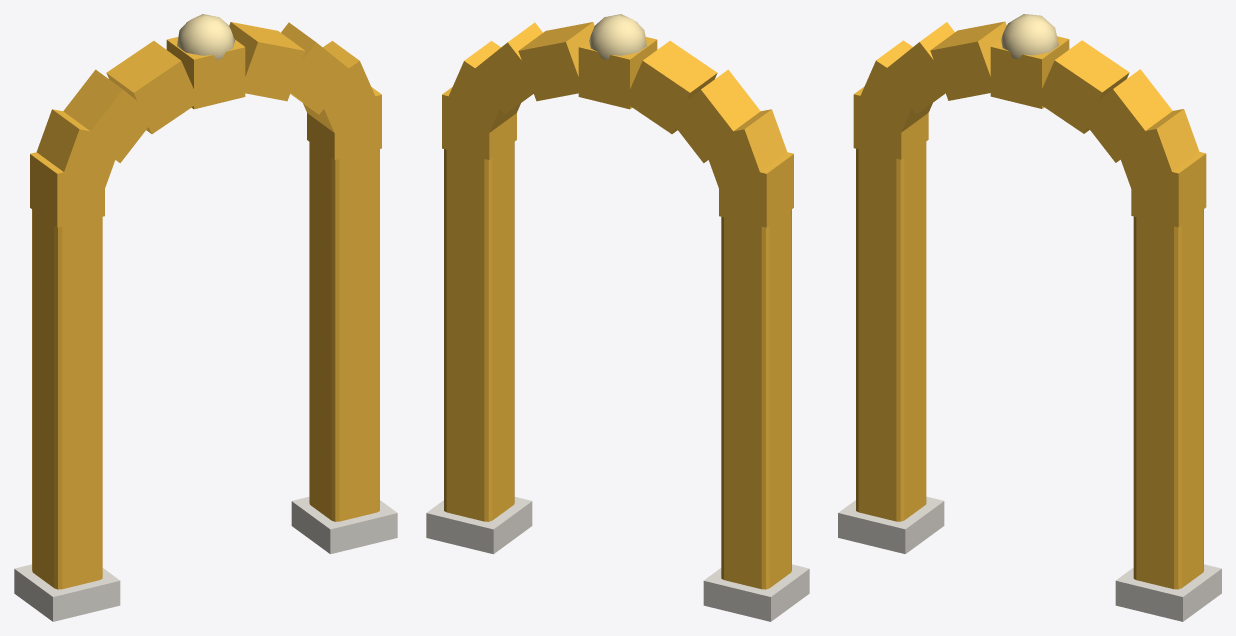
Rendered from PortalArch.fbx.
The picture shows the model from 3 angles, left to right: view 1: azimuth 30°, elevation 25°; view 2: azimuth 150°, elevation 25°; view 3: azimuth 330°, elevation 25°; orthographic projection.
Parts seen in each view (by area): view 1: Gold_PostL, Gold_PostR, Gold_Arc5, Gold_Arc6, Gold_Arc7, Gold_Arc8, Gold_Arc3, Marble_PlinthL, Marble_PlinthR, Gold_Arc4, Gold_Arc0, Gold_Arc1 (+2 smaller); view 2: Gold_PostR, Gold_PostL, Gold_Arc5, Gold_Arc6, Gold_Arc7, Gold_Arc3, Gold_Arc8, Marble_PlinthL, Marble_PlinthR, Gold_Arc4, Gold_Arc2, Gold_Arc1 (+2 smaller); view 3: Gold_PostL, Gold_PostR, Gold_Arc3, Gold_Arc0, Gold_Arc2, Gold_Arc1, Gold_Arc5, Marble_PlinthR, Marble_PlinthL, Gold_Arc4, Gold_Arc6, Gold_Arc8 (+2 smaller).
Boxes of the visible parts, left/top/right/bottom form: Gold_PostL: left=32, top=189, right=102, bottom=589; Gold_PostR: left=309, top=142, right=379, bottom=521; Gold_Arc5: left=106, top=41, right=198, bottom=133; Gold_Arc6: left=63, top=69, right=150, bottom=163; Gold_Arc7: left=36, top=109, right=122, bottom=191; Gold_Arc8: left=30, top=152, right=104, bottom=227; Gold_Arc3: left=229, top=22, right=305, bottom=101; Marble_PlinthL: left=14, top=564, right=120, bottom=621; Marble_PlinthR: left=291, top=497, right=397, bottom=554; Gold_Arc4: left=166, top=37, right=245, bottom=109; Gold_Arc0: left=307, top=87, right=381, bottom=159; Gold_Arc1: left=303, top=41, right=374, bottom=135; Gold_PostR: left=444, top=126, right=514, bottom=521; Gold_PostL: left=721, top=195, right=791, bottom=589; Gold_Arc5: left=625, top=41, right=717, bottom=133; Gold_Arc6: left=668, top=69, right=760, bottom=163; Gold_Arc7: left=702, top=109, right=787, bottom=191; Gold_Arc3: left=518, top=22, right=594, bottom=101; Gold_Arc8: left=719, top=152, right=793, bottom=227; Marble_PlinthL: left=703, top=564, right=809, bottom=621; Marble_PlinthR: left=426, top=497, right=532, bottom=554; Gold_Arc4: left=578, top=37, right=657, bottom=109; Gold_Arc2: left=471, top=22, right=542, bottom=114; Gold_Arc1: left=444, top=41, right=520, bottom=132; Gold_PostL: left=856, top=125, right=926, bottom=521; Gold_PostR: left=1133, top=203, right=1203, bottom=589; Gold_Arc3: left=1037, top=40, right=1129, bottom=133; Gold_Arc0: left=1131, top=152, right=1206, bottom=227; Gold_Arc2: left=1079, top=69, right=1172, bottom=162; Gold_Arc1: left=1113, top=109, right=1199, bottom=191; Gold_Arc5: left=930, top=21, right=1006, bottom=100; Marble_PlinthR: left=1115, top=564, right=1221, bottom=621; Marble_PlinthL: left=838, top=496, right=944, bottom=554; Gold_Arc4: left=990, top=36, right=1069, bottom=108; Gold_Arc6: left=883, top=22, right=954, bottom=114; Gold_Arc8: left=853, top=86, right=928, bottom=159.
Size of the model in its own units: 17.4 by 26.5 by 3.4.
